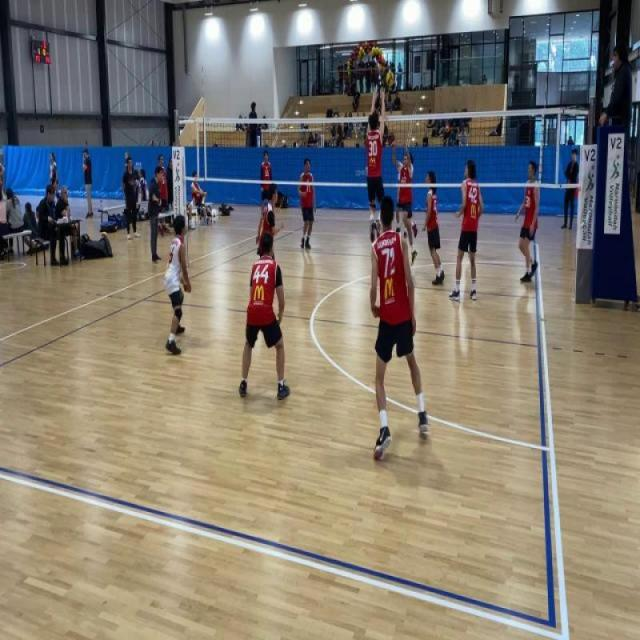volleyball: (385, 69, 396, 88), (101, 231, 108, 239)
